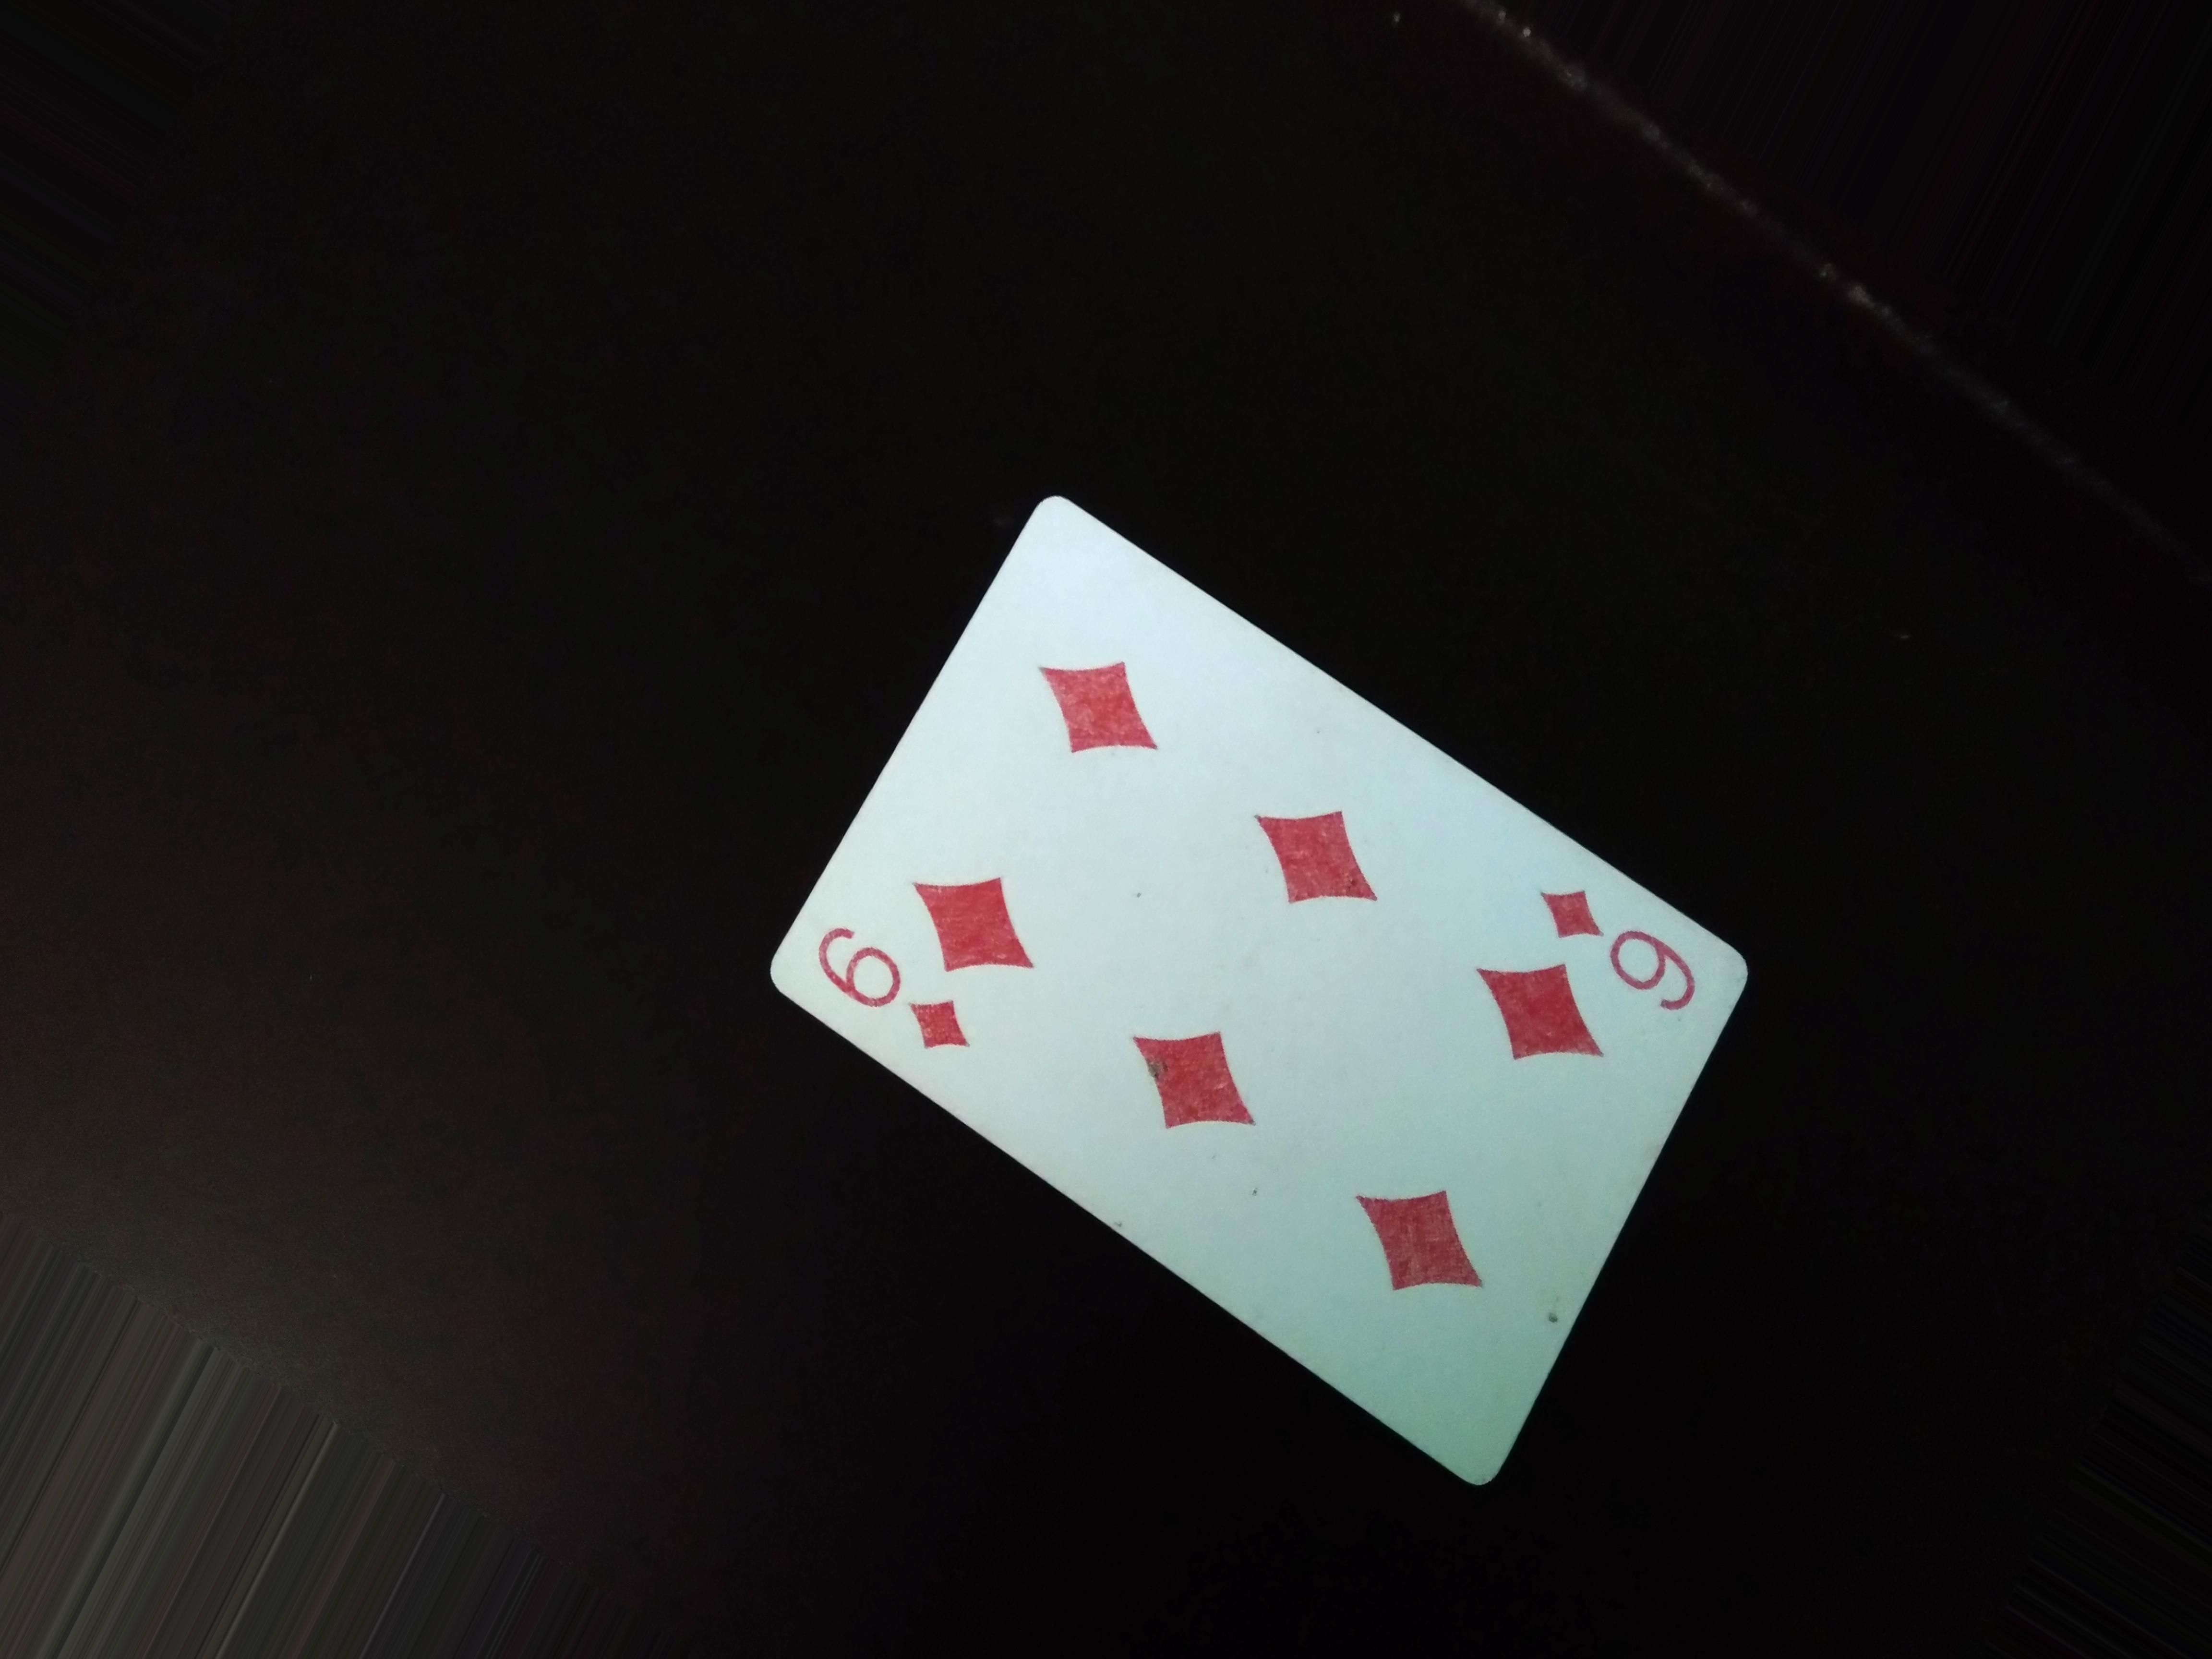6D: (813, 924, 963, 1063)
